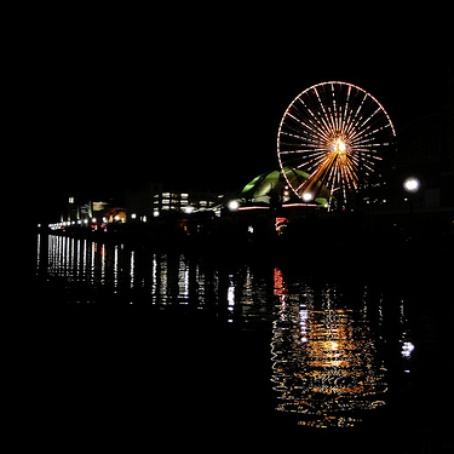ferris wheel: (268, 70, 408, 215)
sea: (2, 237, 454, 454)
sky: (1, 1, 263, 153)
